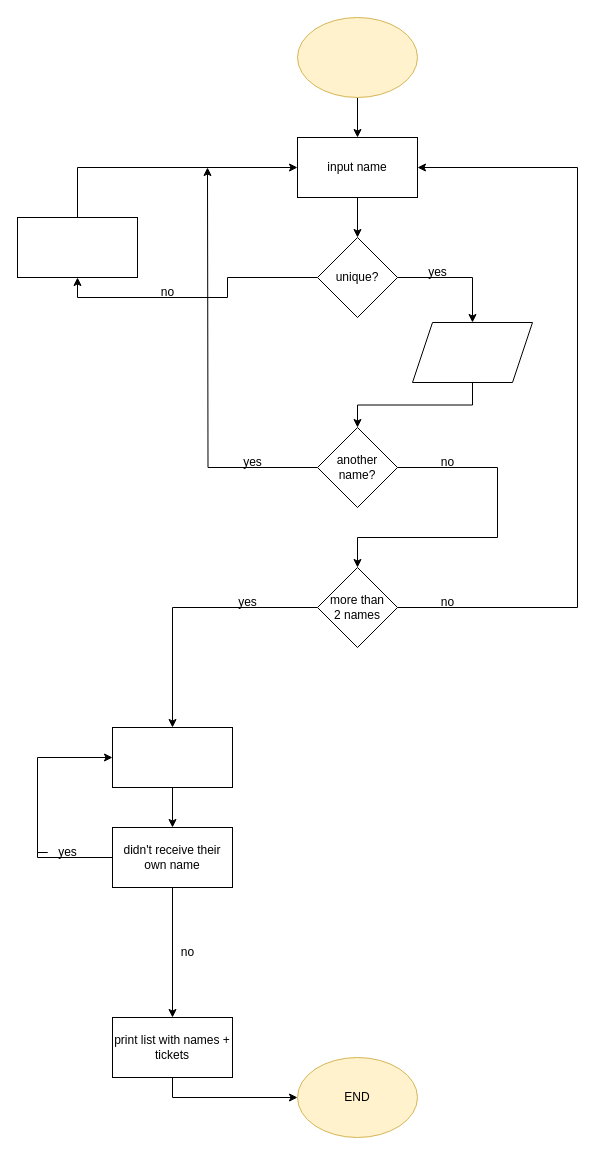
This 603x1155 diagram has some shape labels left out. Each missing label, with the box of its shape:
error: (16, 216, 138, 278)
list of names: (412, 322, 532, 382)
random tickets given to everyone: (112, 726, 232, 788)
Start: (296, 16, 418, 98)
